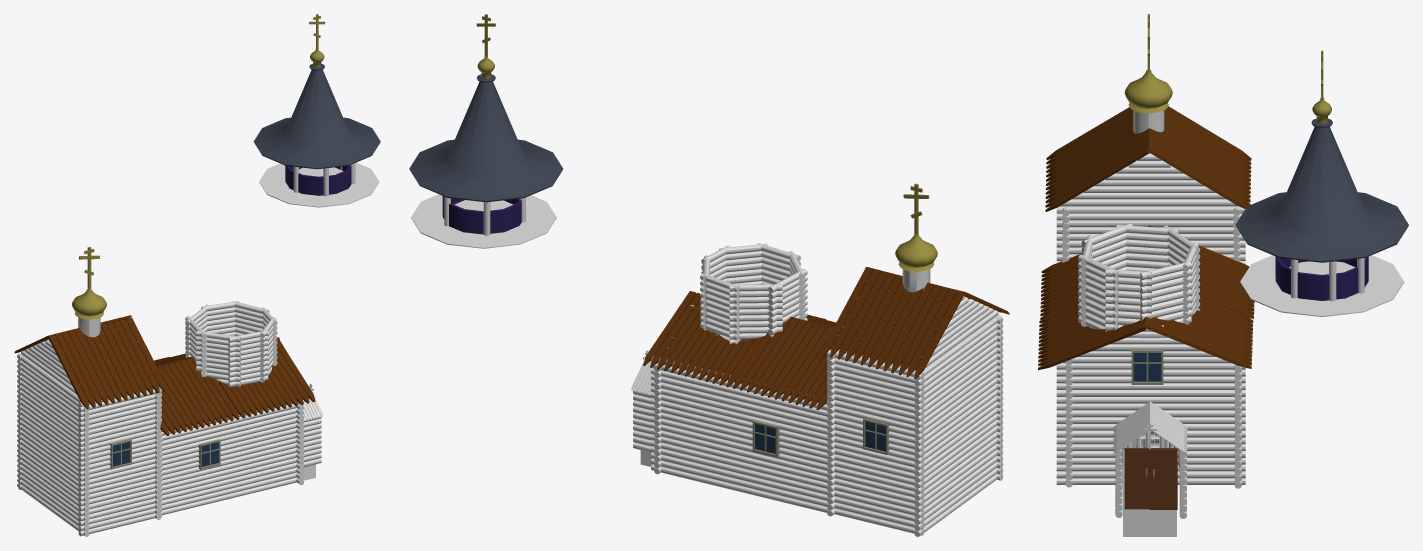
File: church.fbx
3 views of the same model, side by side, from view 1: azimuth 30°, elevation 25°; view 2: azimuth 150°, elevation 25°; view 3: azimuth 270°, elevation 25° (orthographic). The views are drawn at different scales.
Visible parts, largest first — view 1: church.001, wood.005, wood.002, wood.001, wood_roof.007, wood_roof.002, wood_roof.003, wood.035, wood.031, church, wood.036, wood.038 (+9 smaller); view 2: wood.006, church.001, wood.002, wood.003, wood_roof.008, wood_roof.005, wood_roof.004, wood.020, church, wood.036, wood.037, wood.033 (+7 smaller); view 3: church.001, wood.004, wood.007, wood_roof.008, wood_roof.007, wood_roof.004, wood_roof.003, wood_roof.005, wood.032, church, wood.034, wood.037 (+26 smaller).
Boxes of the visible parts, left/top/right/bottom form: church.001: left=253, top=14, right=380, bottom=207; wood.005: left=161, top=402, right=302, bottom=515; wood.002: left=17, top=353, right=89, bottom=536; wood.001: left=78, top=388, right=161, bottom=536; wood_roof.007: left=48, top=318, right=166, bottom=409; wood_roof.002: left=158, top=359, right=239, bottom=435; wood_roof.003: left=218, top=339, right=315, bottom=418; wood.035: left=228, top=330, right=268, bottom=387; wood.031: left=196, top=331, right=240, bottom=386; church: left=72, top=247, right=106, bottom=337; wood.036: left=201, top=301, right=239, bottom=335; wood.038: left=303, top=414, right=321, bottom=466; wood.006: left=651, top=356, right=828, bottom=512; church.001: left=409, top=14, right=563, bottom=248; wood.002: left=914, top=314, right=1001, bottom=536; wood.003: left=827, top=350, right=924, bottom=535; wood_roof.008: left=822, top=266, right=964, bottom=378; wood_roof.005: left=733, top=316, right=833, bottom=410; wood_roof.004: left=643, top=291, right=764, bottom=387; wood.020: left=729, top=284, right=782, bottom=343; church: left=895, top=183, right=937, bottom=293; wood.036: left=700, top=273, right=739, bottom=344; wood.037: left=719, top=244, right=768, bottom=284; wood.033: left=768, top=269, right=807, bottom=337; church.001: left=1235, top=50, right=1408, bottom=316; wood.004: left=1056, top=362, right=1245, bottom=484; wood.007: left=1056, top=206, right=1245, bottom=264; wood_roof.008: left=1146, top=106, right=1251, bottom=208; wood_roof.007: left=1045, top=107, right=1149, bottom=211; wood_roof.004: left=1143, top=297, right=1253, bottom=368; wood_roof.003: left=1038, top=304, right=1145, bottom=370; wood_roof.005: left=1148, top=225, right=1254, bottom=318; wood.032: left=1140, top=261, right=1191, bottom=323; church: left=1124, top=14, right=1172, bottom=133; wood.034: left=1105, top=269, right=1151, bottom=331; wood.037: left=1078, top=254, right=1118, bottom=330.
Bounding box in the file's own units: 2749 × 2653 × 1667.
